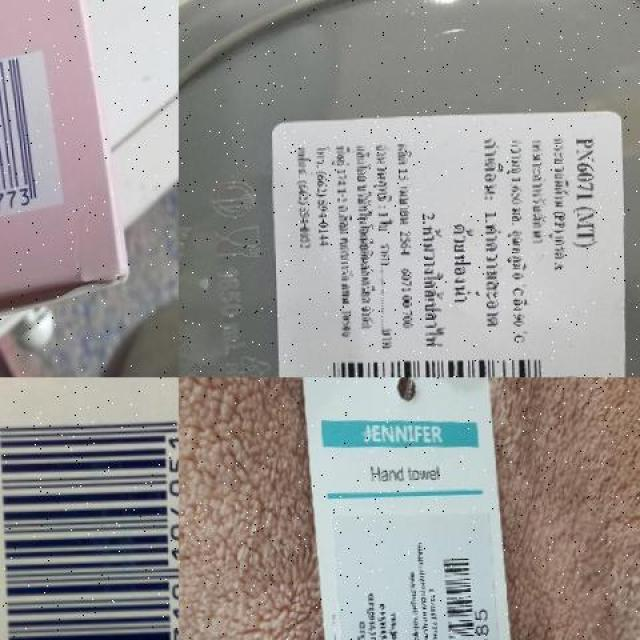Barcode: (0, 400, 179, 640), (0, 51, 60, 249), (297, 347, 551, 377), (436, 541, 495, 640)
